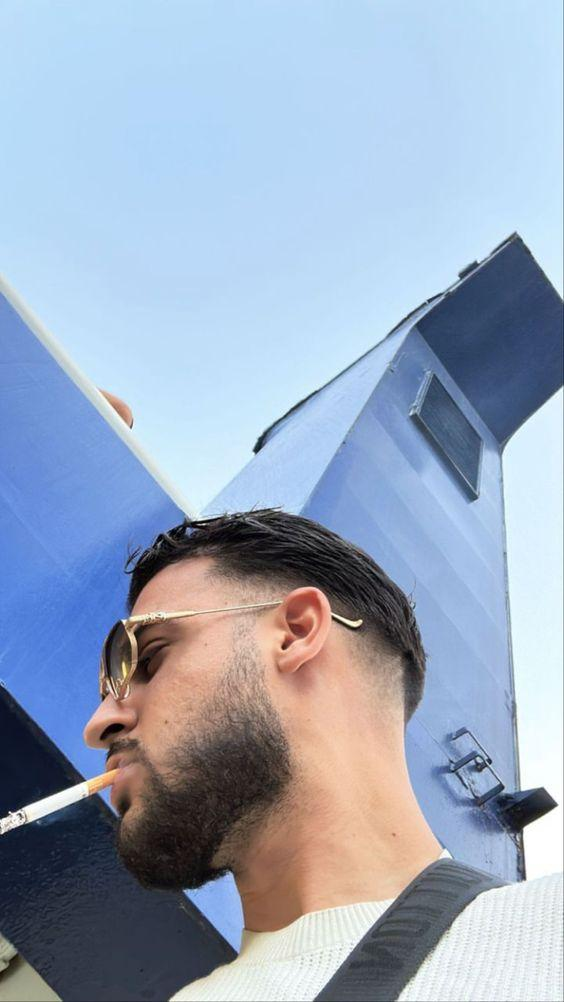cigarette: (0, 767, 122, 837)
